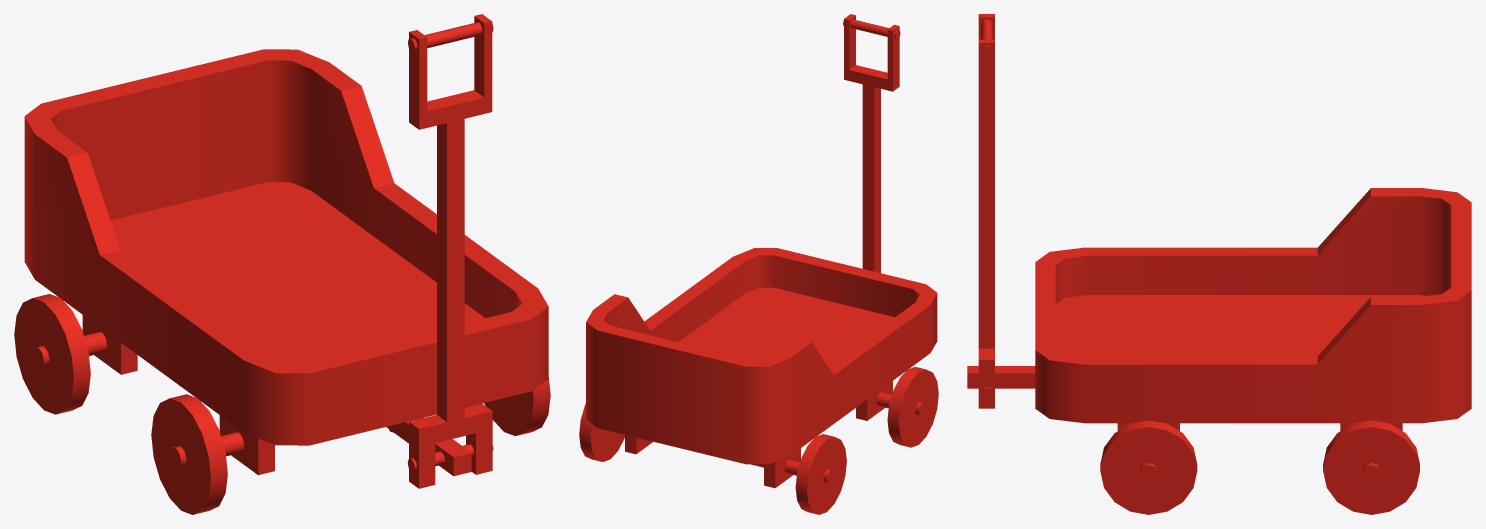
The model's file is FoodWagon.fbx.
3 renders of one model, left to right at view 1: azimuth 30°, elevation 25°; view 2: azimuth 150°, elevation 25°; view 3: azimuth 270°, elevation 25°, orthographic. The views are drawn at different scales.
Parts seen in each view (by area): view 1: WagonBod; view 2: WagonBod; view 3: WagonBod.
Part boxes in pixels (x1=…): WagonBod: x1=14, y1=14, x2=550, y2=514; WagonBod: x1=579, y1=14, x2=938, y2=514; WagonBod: x1=967, y1=14, x2=1471, y2=514.
Bounding box in the file's own units: 48.2 × 67.67 × 73.78.
